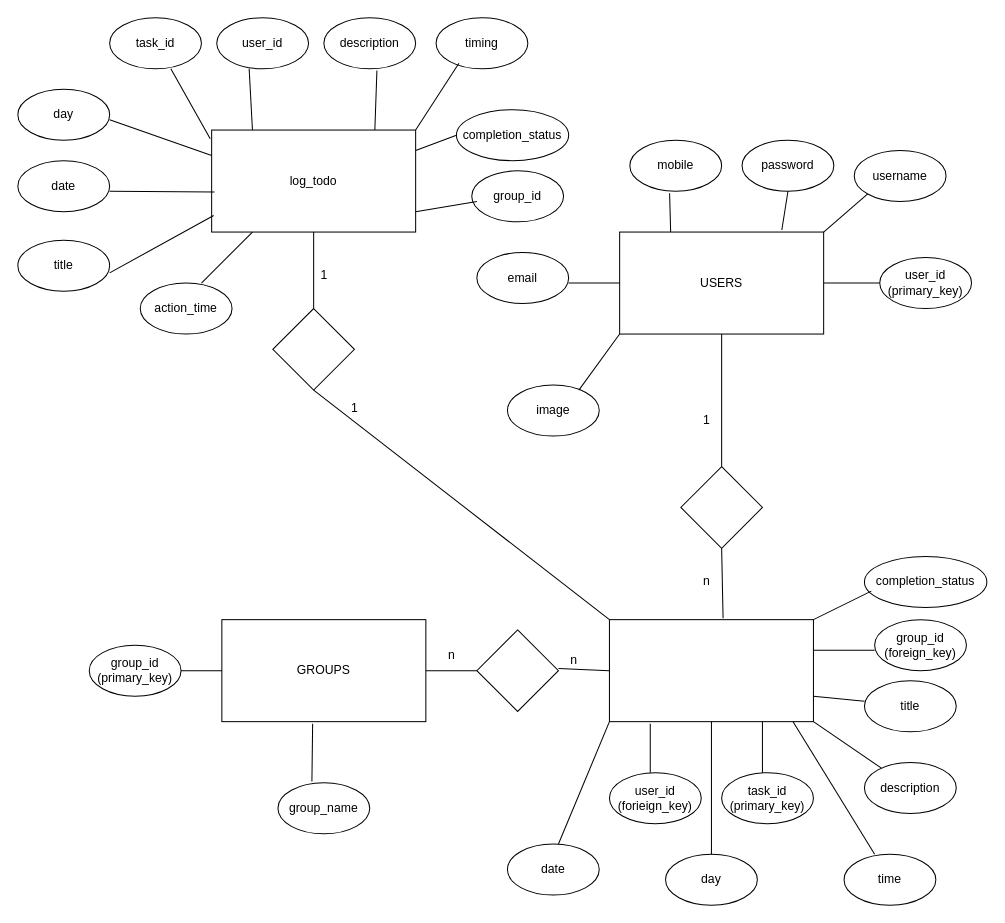
Image size: 1005x923. Some labels were removed from this diagram. The shapes that lost their labels are listed below. From the top down, each one's centre as x and y in pixels, then its label:
(x=313, y=349): takes log
(x=721, y=507): have
(x=517, y=670): categorised into
(x=710, y=670): TASKS
